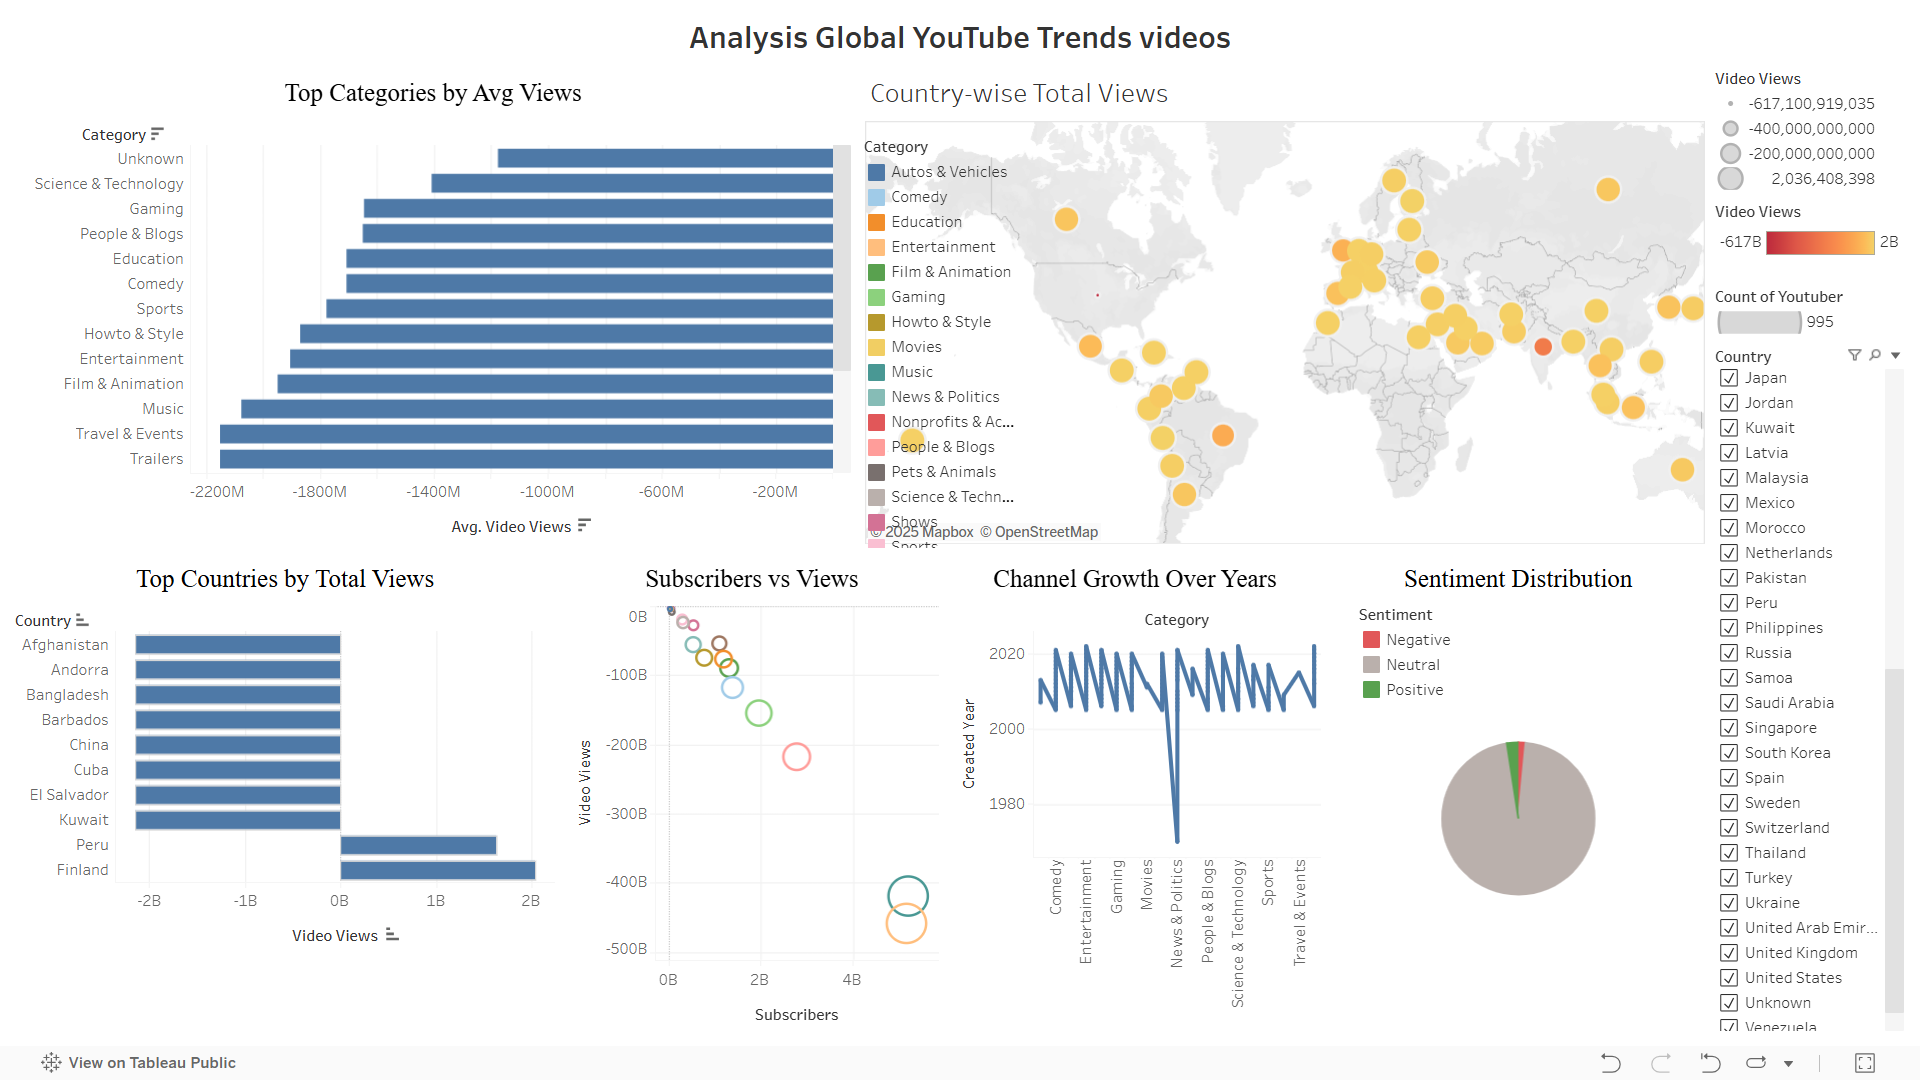

Layout of this report page (visuals, bound fields, positions):
{"tool":"tableau","page":{"name":"Analysis Global YouTube Trends videos","canvas":[1000,1000],"units":"permille","ordinal":0},"visuals":[{"type":"title","box":[4.8,10,990.3,61.2]},{"type":"worksheet","title":"Top Categories by Avg Views","mark":"Automatic","rows":["category"],"cols":["video views"],"box":[4.8,71.2,446.9,459.4]},{"type":"worksheet","title":"Country-wise Total Views","mark":"Automatic","box":[451.7,71.2,446.9,459.4]},{"type":"legend","title":"Country-wise Total Views","param":"[federated.0tee1kb08kubn7157t9kh09196uq].[sum:video views:qk]","box":[898.6,71.2,96.6,142.3]},{"type":"legend","title":"Subscribers vs Views","param":"[federated.0tee1kb08kubn7157t9kh09196uq].[none:category:nk]","box":[449.6,129.8,91.1,393.3]},{"type":"legend","title":"Country-wise Total Views","param":"[federated.0tee1kb08kubn7157t9kh09196uq].[sum:video views:qk]","box":[898.6,213.5,96.6,91.1]},{"type":"legend","title":"Sentiment Distribution","param":"[federated.0tee1kb08kubn7157t9kh09196uq].[cnt:Youtuber:qk]","box":[898.6,304.6,96.6,63.7]},{"type":"filter","title":"Country-wise Total Views","param":"[federated.0tee1kb08kubn7157t9kh09196uq].[none:Country:nk]","box":[898.6,368.3,96.6,621.7]},{"type":"worksheet","title":" Top Countries by Total Views","mark":"Automatic","rows":["Country"],"cols":["video views"],"box":[4.8,530.6,289.1,459.4]},{"type":"worksheet","title":"Subscribers vs Views","mark":"Automatic","rows":["video views"],"cols":["subscribers"],"box":[293.9,530.6,201.6,459.4]},{"type":"worksheet","title":"Channel Growth Over Years","mark":"Line","rows":["created_year"],"cols":["category"],"box":[495.5,530.6,201.6,459.4]},{"type":"worksheet","title":"Sentiment Distribution","mark":"Pie","box":[697,530.6,201.6,459.4]},{"type":"legend","title":"Sentiment Distribution","param":"[federated.0tee1kb08kubn7157t9kh09196uq].[none:sentiment:nk]","box":[707.9,576.8,84.5,116.1]}]}

Visuals, with their boxes on the dashboard's canvas, which has no fixed pixel size, in thousandths of its width and height (x1, y1, x2, y2). These are canvas units, not pixel positions in the 1920x1080 screenshot, which may show the page scaled, cropped or inside an application window:
title: {"x1": 5, "y1": 10, "x2": 995, "y2": 71}
"Top Categories by Avg Views" worksheet: {"x1": 5, "y1": 71, "x2": 452, "y2": 531}
"Country-wise Total Views" worksheet: {"x1": 452, "y1": 71, "x2": 899, "y2": 531}
"Country-wise Total Views" legend: {"x1": 899, "y1": 71, "x2": 995, "y2": 214}
"Subscribers vs Views" legend: {"x1": 450, "y1": 130, "x2": 541, "y2": 523}
"Country-wise Total Views" legend: {"x1": 899, "y1": 214, "x2": 995, "y2": 305}
"Sentiment Distribution" legend: {"x1": 899, "y1": 305, "x2": 995, "y2": 368}
"Country-wise Total Views" filter: {"x1": 899, "y1": 368, "x2": 995, "y2": 990}
" Top Countries by Total Views" worksheet: {"x1": 5, "y1": 531, "x2": 294, "y2": 990}
"Subscribers vs Views" worksheet: {"x1": 294, "y1": 531, "x2": 496, "y2": 990}
"Channel Growth Over Years" worksheet (Line marks): {"x1": 496, "y1": 531, "x2": 697, "y2": 990}
"Sentiment Distribution" worksheet (Pie marks): {"x1": 697, "y1": 531, "x2": 899, "y2": 990}
"Sentiment Distribution" legend: {"x1": 708, "y1": 577, "x2": 792, "y2": 693}
